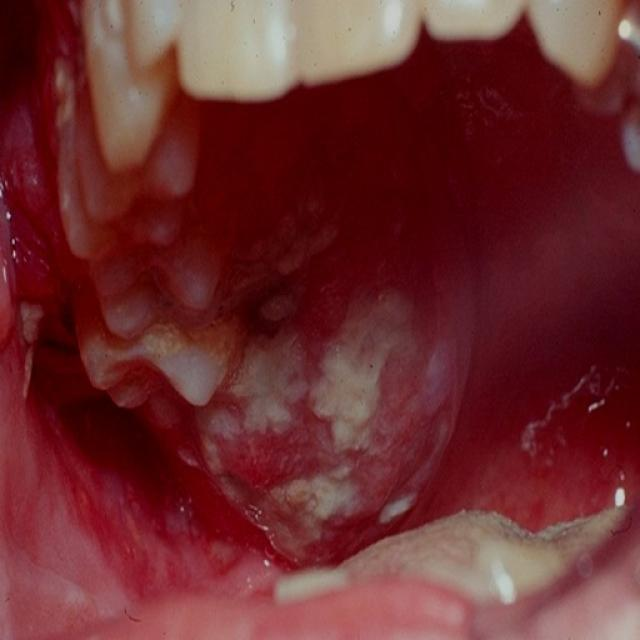leukoplakia-like-detection: (158, 248, 504, 566)
processing_area: (0, 2, 639, 639)
